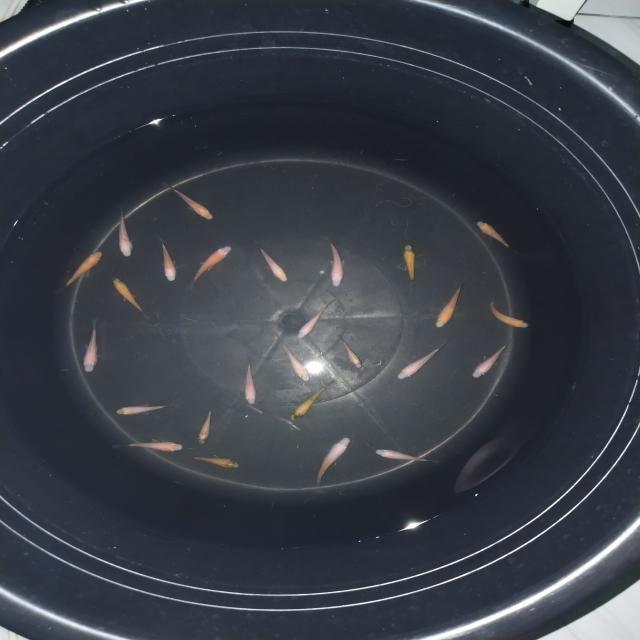nila: (284, 377, 338, 424), (394, 340, 453, 382), (313, 434, 353, 492), (52, 250, 107, 292), (162, 180, 216, 222), (186, 243, 233, 290), (470, 336, 518, 379), (431, 280, 472, 330), (272, 333, 312, 383), (292, 298, 338, 340), (474, 220, 526, 254), (254, 238, 292, 284), (110, 276, 150, 318), (486, 294, 530, 329), (110, 203, 136, 259), (322, 236, 348, 290), (108, 438, 193, 454), (372, 446, 445, 464), (80, 317, 102, 375), (398, 242, 419, 298), (335, 334, 366, 370), (114, 401, 180, 417), (194, 401, 216, 448), (156, 238, 178, 282), (242, 358, 261, 408), (191, 453, 242, 471)
